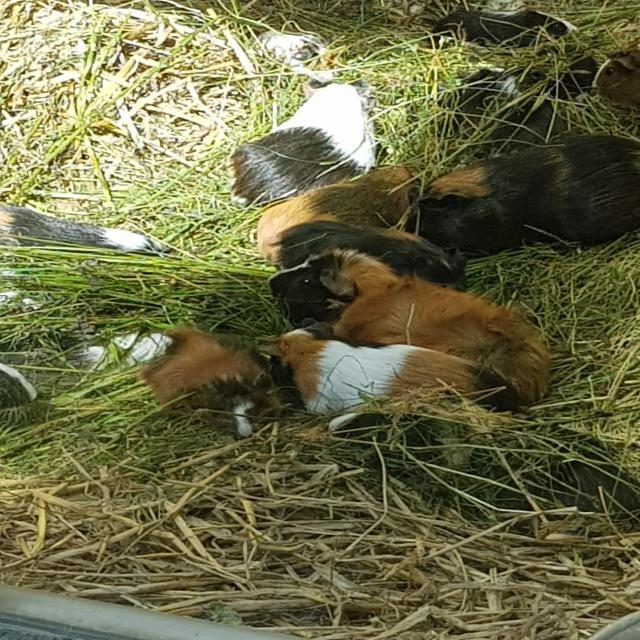guinea pig: (265, 252, 579, 341), (399, 133, 640, 248), (245, 334, 529, 414), (198, 82, 388, 181)
